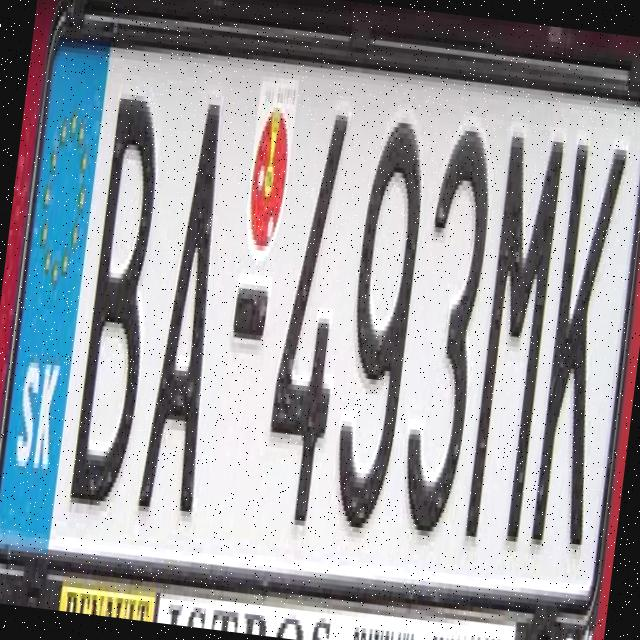EU: (0, 0, 640, 640)
Slovaquie: (0, 20, 112, 552)
